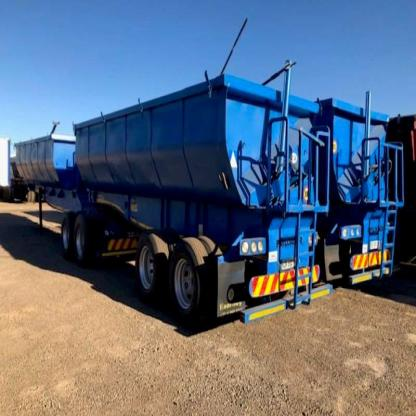dump_truck: (10, 72, 335, 349)
